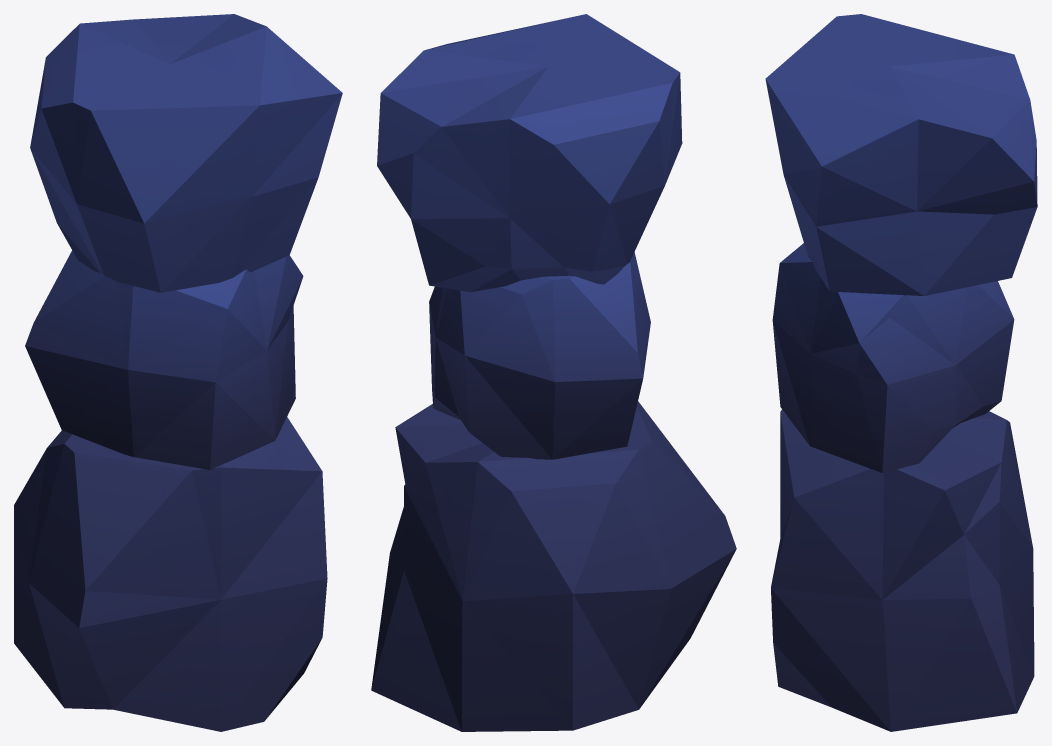
File: rockColumn3.fbx
3 renders of one model, left to right at view 1: azimuth 30°, elevation 25°; view 2: azimuth 150°, elevation 25°; view 3: azimuth 270°, elevation 25°, orthographic. The views are drawn at different scales.
Visible parts, largest first — view 1: rockColumn3; view 2: rockColumn3; view 3: rockColumn3.
Part boxes in pixels (<box>): rockColumn3: <box>14,14,342,731</box>; rockColumn3: <box>371,14,736,731</box>; rockColumn3: <box>765,14,1037,731</box>.
Bounding box in the file's own units: 137 × 293 × 120.
